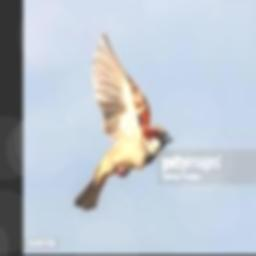Sparrow: (73, 33, 172, 210)
